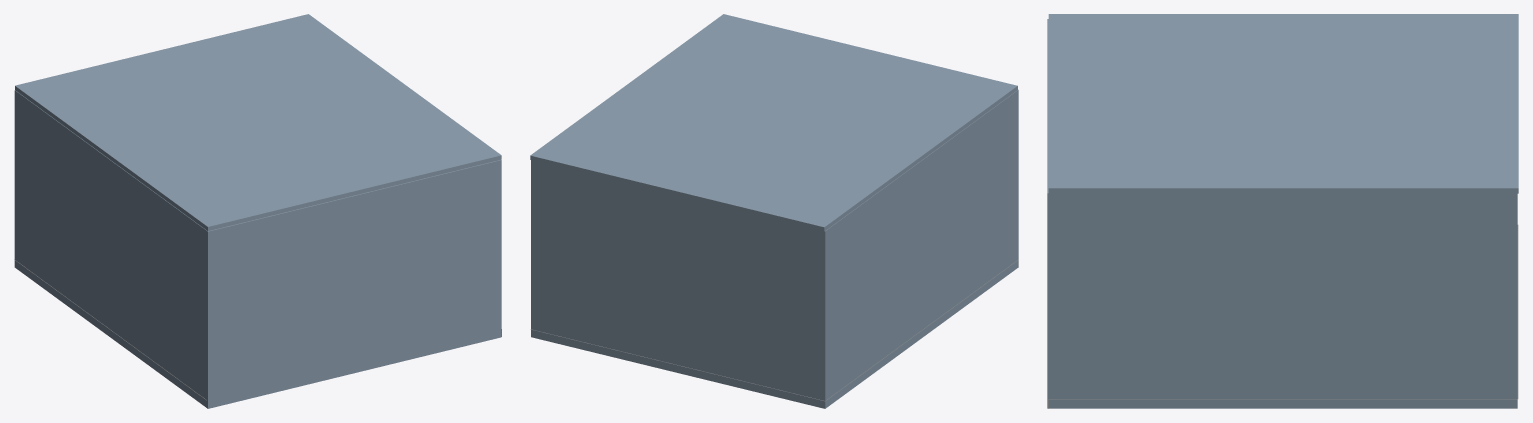
Rendered from Total_test_v4.fbx.
3 views of the same model, side by side, from view 1: azimuth 30°, elevation 25°; view 2: azimuth 150°, elevation 25°; view 3: azimuth 270°, elevation 25° (orthographic). The views are drawn at different scales.
Visible parts, largest first — view 1: Plane, Cube.083; view 2: Plane, Cube.083, Plane.001; view 3: Plane, Cube.083, Plane.001.
Part boxes in pixels (<box>): Plane: <box>14,90,501,408</box>; Cube.083: <box>15,14,501,230</box>; Plane: <box>531,89,1018,408</box>; Cube.083: <box>530,14,1017,231</box>; Plane.001: <box>530,260,1018,401</box>; Plane: <box>1047,19,1517,408</box>; Cube.083: <box>1048,14,1518,193</box>; Plane.001: <box>1048,225,1518,408</box>.
Size of the model in its own units: 689 by 409 by 784.
